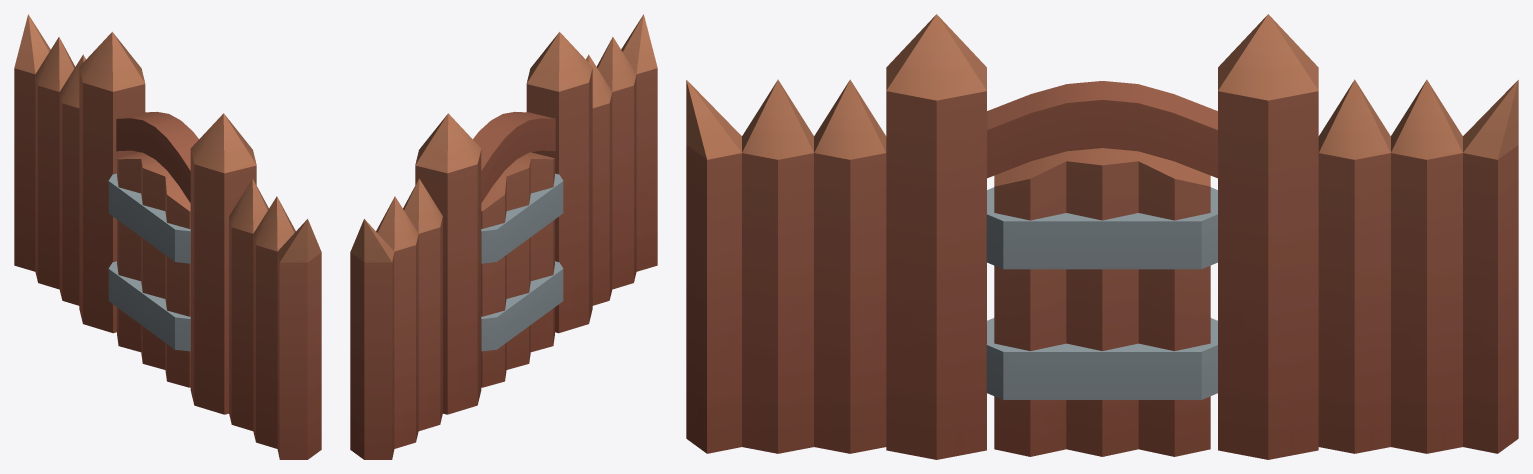
File: fence_wood_straight_gate.glb
The picture shows the model from 3 angles, left to right: view 1: azimuth 30°, elevation 25°; view 2: azimuth 150°, elevation 25°; view 3: azimuth 270°, elevation 25°; orthographic projection. The views are drawn at different scales.
Parts seen in each view (by area): view 1: fence_wood_straight_gate, fence_wood_straight_door; view 2: fence_wood_straight_gate, fence_wood_straight_door; view 3: fence_wood_straight_gate, fence_wood_straight_door.
Boxes of the visible parts, left/top/right/bottom form: fence_wood_straight_gate: left=14, top=14, right=321, bottom=459; fence_wood_straight_door: left=108, top=152, right=190, bottom=387; fence_wood_straight_gate: left=350, top=14, right=657, bottom=459; fence_wood_straight_door: left=481, top=152, right=563, bottom=387; fence_wood_straight_gate: left=686, top=14, right=1518, bottom=459; fence_wood_straight_door: left=986, top=148, right=1217, bottom=456.
Bounding box in the file's own units: 0.14 × 0.65 × 1.15.
1 material, 1 textured.
